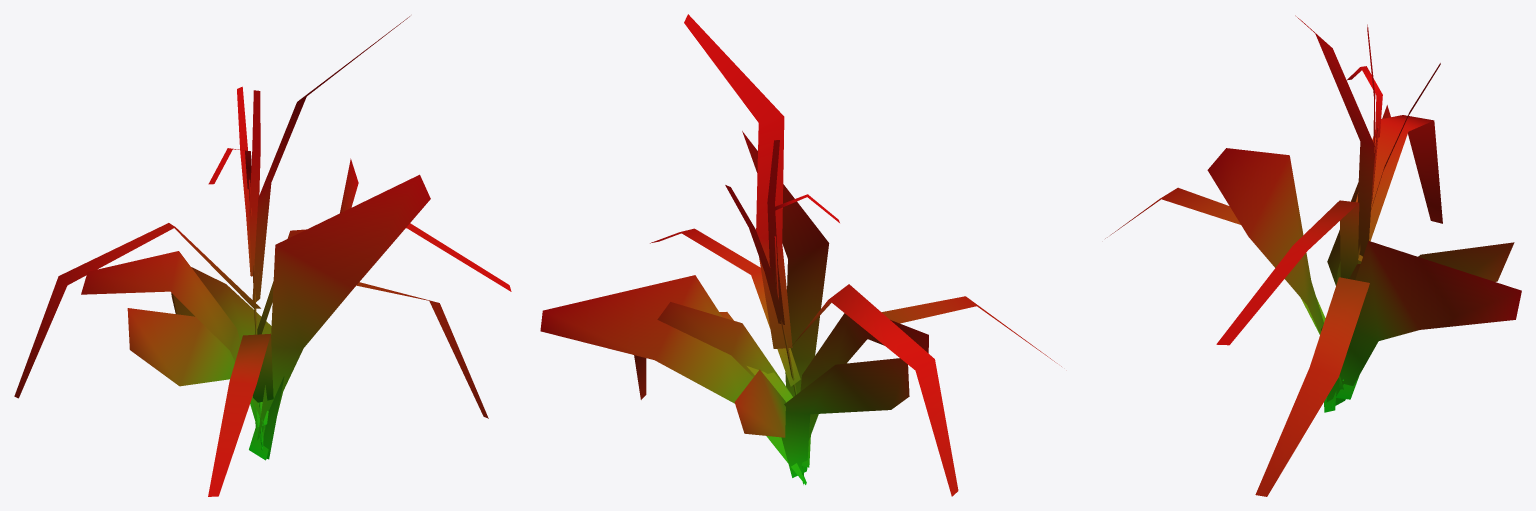
Rendered from Var10_LOD2.fbx.
3 views of the same model, side by side, from view 1: azimuth 30°, elevation 25°; view 2: azimuth 150°, elevation 25°; view 3: azimuth 270°, elevation 25° (orthographic). The views are drawn at different scales.
Parts seen in each view (by area): view 1: _c041_Var10_LOD2; view 2: _c041_Var10_LOD2; view 3: _c041_Var10_LOD2.
Part boxes in pixels (x1,y1,x2,y2): _c041_Var10_LOD2: [14, 16, 511, 496]; _c041_Var10_LOD2: [540, 14, 1061, 496]; _c041_Var10_LOD2: [1105, 15, 1521, 496].
Bounding box in the file's own units: 26.44 × 26.84 × 22.08.
